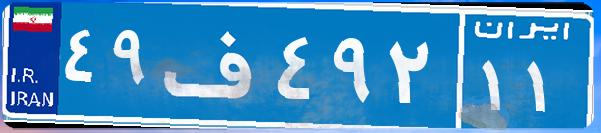1: (475, 38, 525, 113), (525, 38, 570, 115)
2: (385, 28, 445, 110)
4: (273, 28, 330, 110), (57, 26, 110, 107)
9: (330, 28, 385, 110), (110, 28, 158, 105)
ف: (158, 15, 273, 115)
